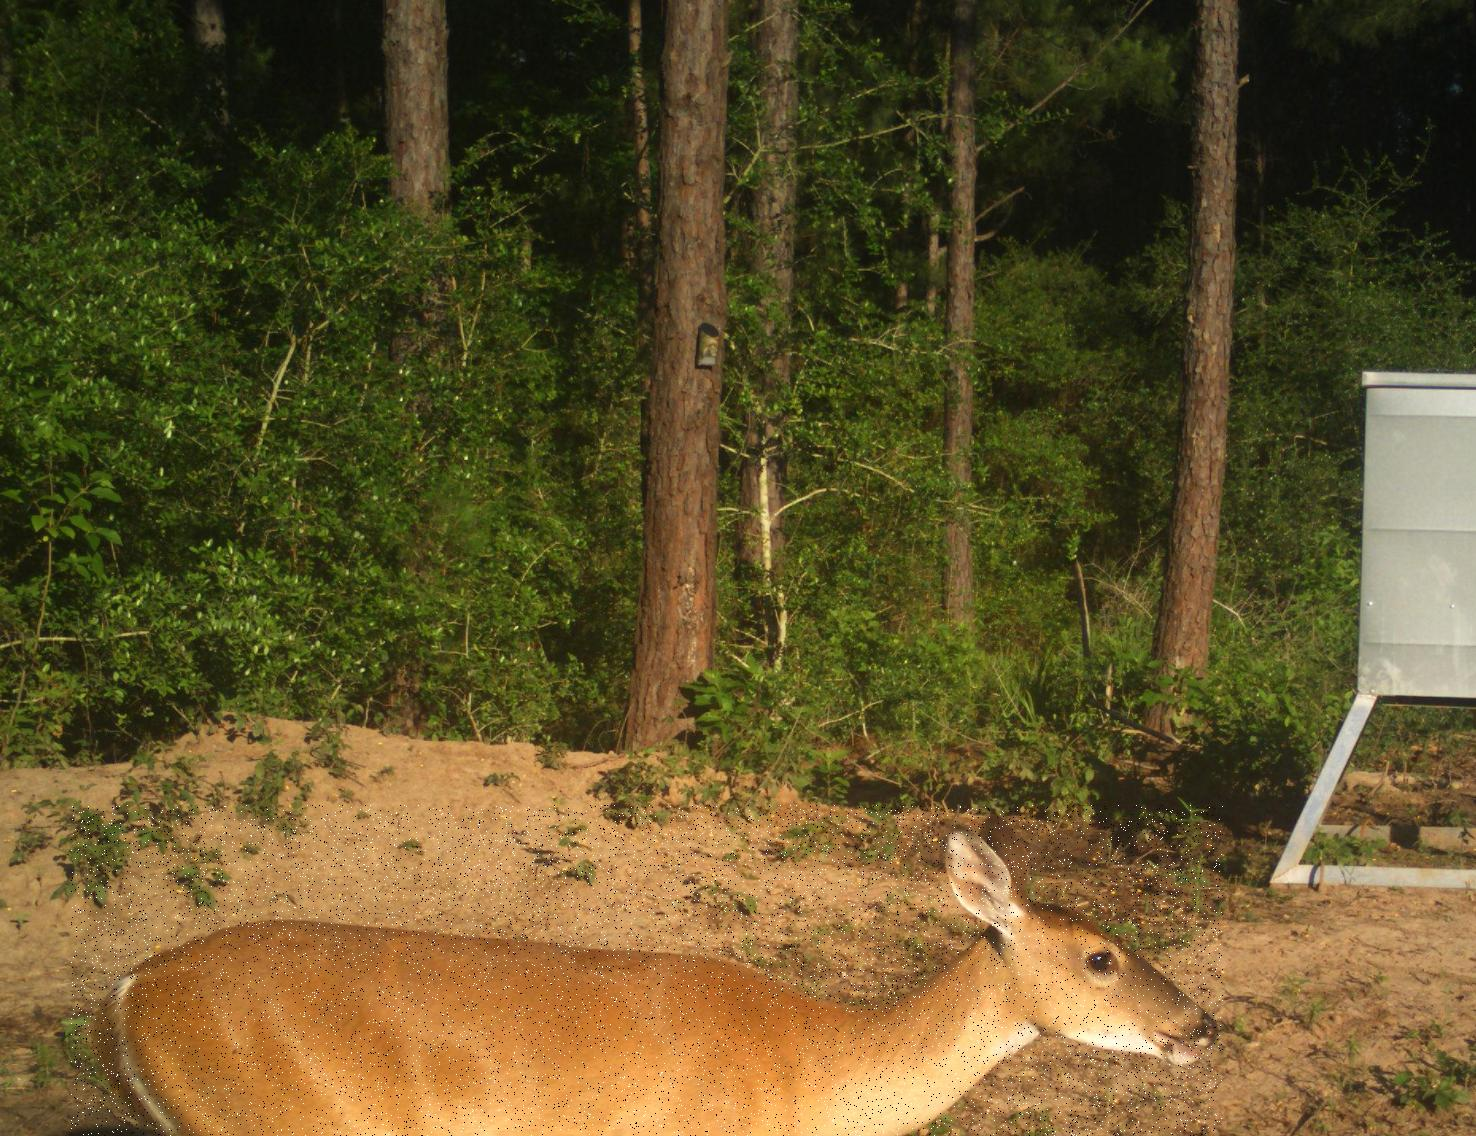Deer: (72, 805, 1223, 1136)
